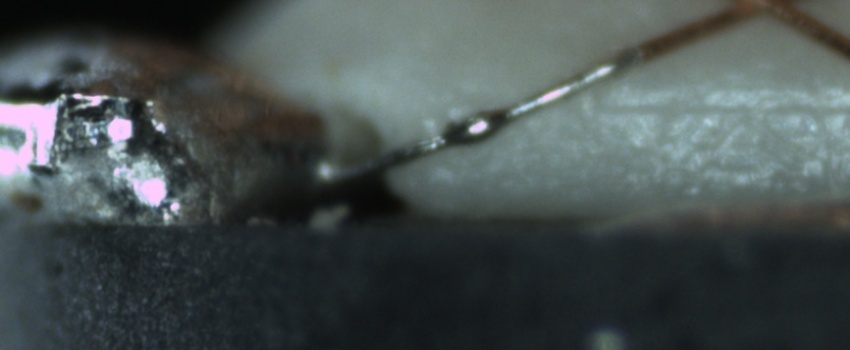CL: (716, 1, 812, 28)
DL: (603, 76, 849, 140)
TB: (438, 105, 506, 154)
TS: (333, 46, 641, 183)
TTCW: (313, 23, 690, 190)
